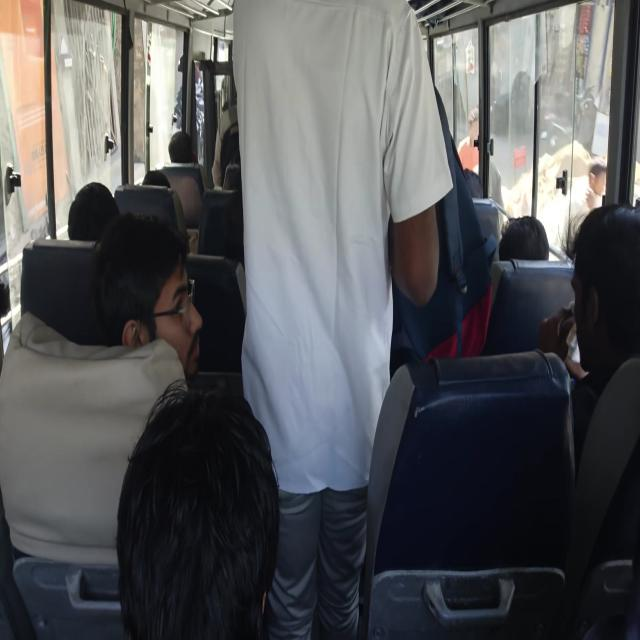person: (226, 0, 419, 419), (140, 419, 244, 557), (100, 229, 195, 374), (571, 212, 640, 317), (505, 220, 563, 269), (71, 182, 119, 234), (461, 165, 487, 206), (146, 166, 172, 204), (168, 136, 198, 168), (220, 152, 246, 187)
